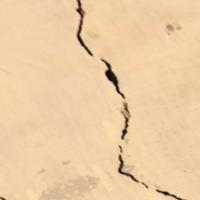crack: (64, 0, 193, 199)
